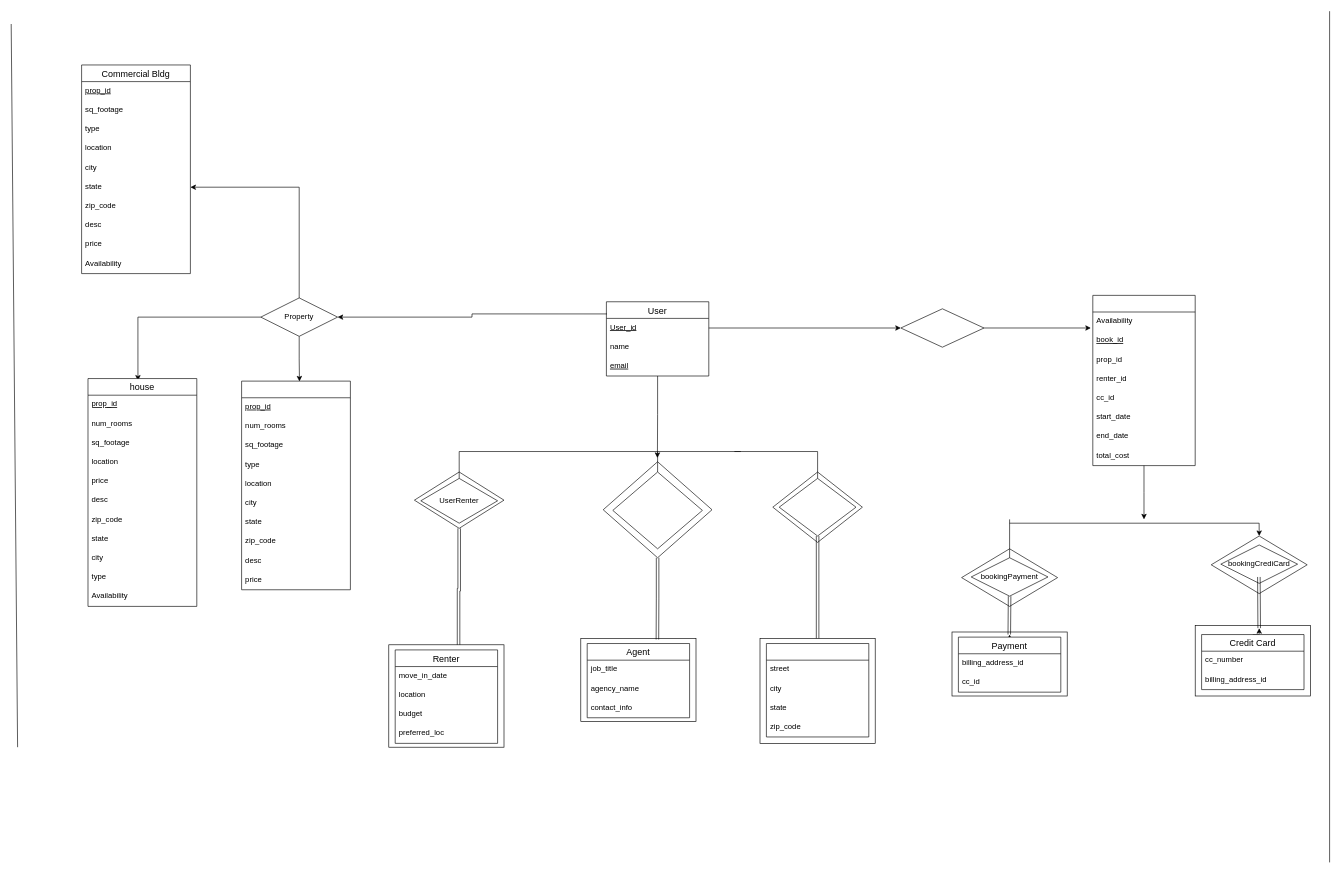
Some shapes in this 1341 by 874 pixel diagram are drawn without their labels. Here are the shapes that lost their labels. From the top down, the box of each, then its label:
(900, 308, 984, 347): Books
(1092, 295, 1195, 466): Booking
(241, 380, 350, 590): Apartment
(612, 471, 702, 549): UserAgent
(779, 478, 856, 536): UserAddress
(766, 643, 869, 737): Address
